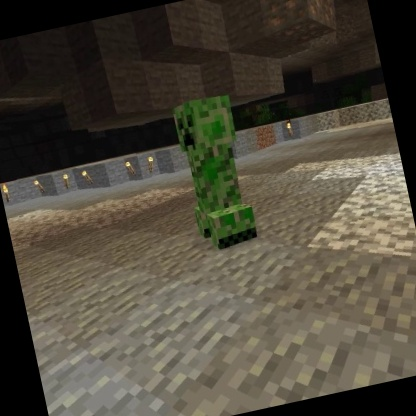creeper: (167, 88, 265, 258)
